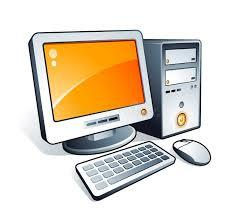keyboard: (75, 143, 174, 201)
monitor: (25, 30, 151, 147)
mouse: (172, 139, 215, 172)
pc: (156, 33, 209, 138)
